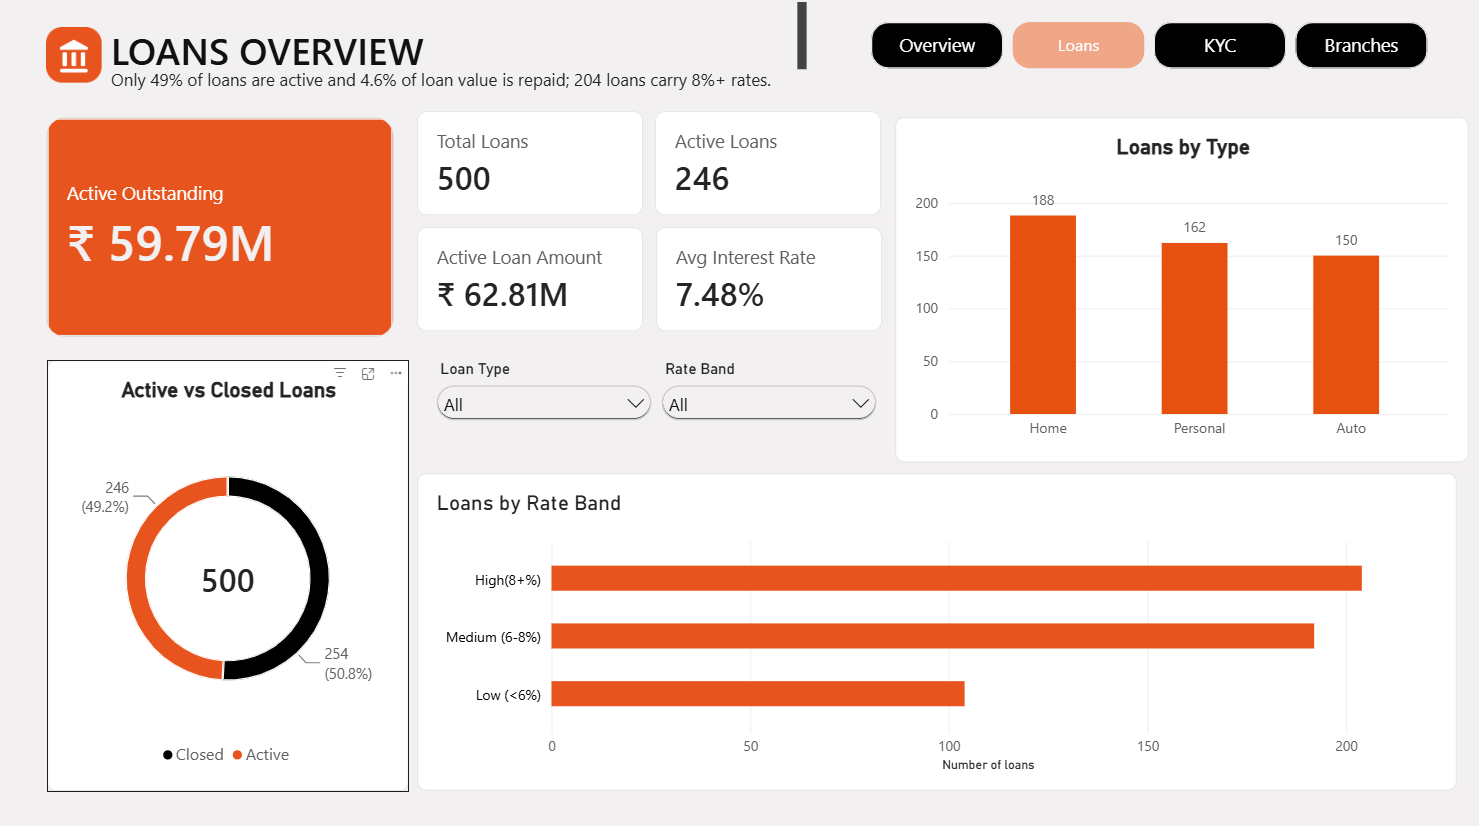

Layout of this report page (visuals, bound fields, positions):
{"tool":"powerbi","page":{"name":"Loans","canvas":[1280,720],"ordinal":1},"visuals":[{"type":"textbox","box":[96,6,600,60],"z":0},{"type":"textbox","box":[96,61.7,600,43.7],"z":1000},{"type":"cardVisual","fields":{"Data":["Measures (2).Active Outstanding"]},"box":[40,105.4,300,190],"z":2000},{"type":"cardVisual","fields":{"Data":["Measures (2).Total Loans"]},"box":[360,100,195,90],"z":3000},{"type":"cardVisual","fields":{"Data":["Measures (2).Avg Interest Rate"]},"box":[565.5,200.5,195.3,90],"z":4000},{"type":"cardVisual","fields":{"Data":["Measures (2).Active Loans"]},"box":[565,100.2,195,90],"z":5000},{"type":"cardVisual","fields":{"Data":["Measures (2).Active loan amount"]},"box":[360,200,195,90],"z":6000},{"type":"clusteredColumnChart","title":"Loans by Type","fields":{"Category":["Loans.loan_type"],"Y":["Measures (2).Total Loans"]},"box":[772.1,105.4,495.4,298.2],"z":7000},{"type":"donutChart","title":"Active vs Closed Loans","fields":{"Category":["Loans.loan_status"],"Y":["Measures (2).Total Loans"]},"box":[40.8,315.2,311.8,371.9],"z":8000},{"type":"clusteredBarChart","title":"Loans by Rate Band","fields":{"Category":["Loans.Rate Band"],"Y":["Measures (2).Total Loans"]},"box":[359.7,412.3,896.8,274.4],"z":9000},{"type":"pageNavigator","box":[750.9,23.3,480,40],"z":10000},{"type":"slicer","fields":{"Values":["Loans.loan_type"]},"box":[371.6,315.1,195,55],"z":10001},{"type":"slicer","fields":{"Values":["Loans.Rate Band"]},"box":[566.1,315.1,195,55],"z":10002},{"type":"image","box":[40,28,48,48],"z":10003}]}

Visuals, with their boxes in screenshot pixels (x1, y1, x2, y2), scaled from the page's 1280x720 canvas onto the 1479x826 screenshot:
textbox: bbox=[111, 7, 804, 76]
textbox: bbox=[111, 71, 804, 121]
cardVisual - Measures (2).Active Outstanding: bbox=[46, 121, 393, 339]
cardVisual - Measures (2).Total Loans: bbox=[416, 115, 641, 218]
cardVisual - Measures (2).Avg Interest Rate: bbox=[653, 230, 879, 333]
cardVisual - Measures (2).Active Loans: bbox=[653, 115, 878, 218]
cardVisual - Measures (2).Active loan amount: bbox=[416, 229, 641, 333]
"Loans by Type" clusteredColumnChart: bbox=[892, 121, 1465, 463]
"Active vs Closed Loans" donutChart: bbox=[47, 362, 407, 788]
"Loans by Rate Band" clusteredBarChart: bbox=[416, 473, 1452, 788]
pageNavigator: bbox=[868, 27, 1422, 73]
slicer - Loans.loan_type: bbox=[429, 361, 655, 425]
slicer - Loans.Rate Band: bbox=[654, 361, 879, 425]
image: bbox=[46, 32, 102, 87]
